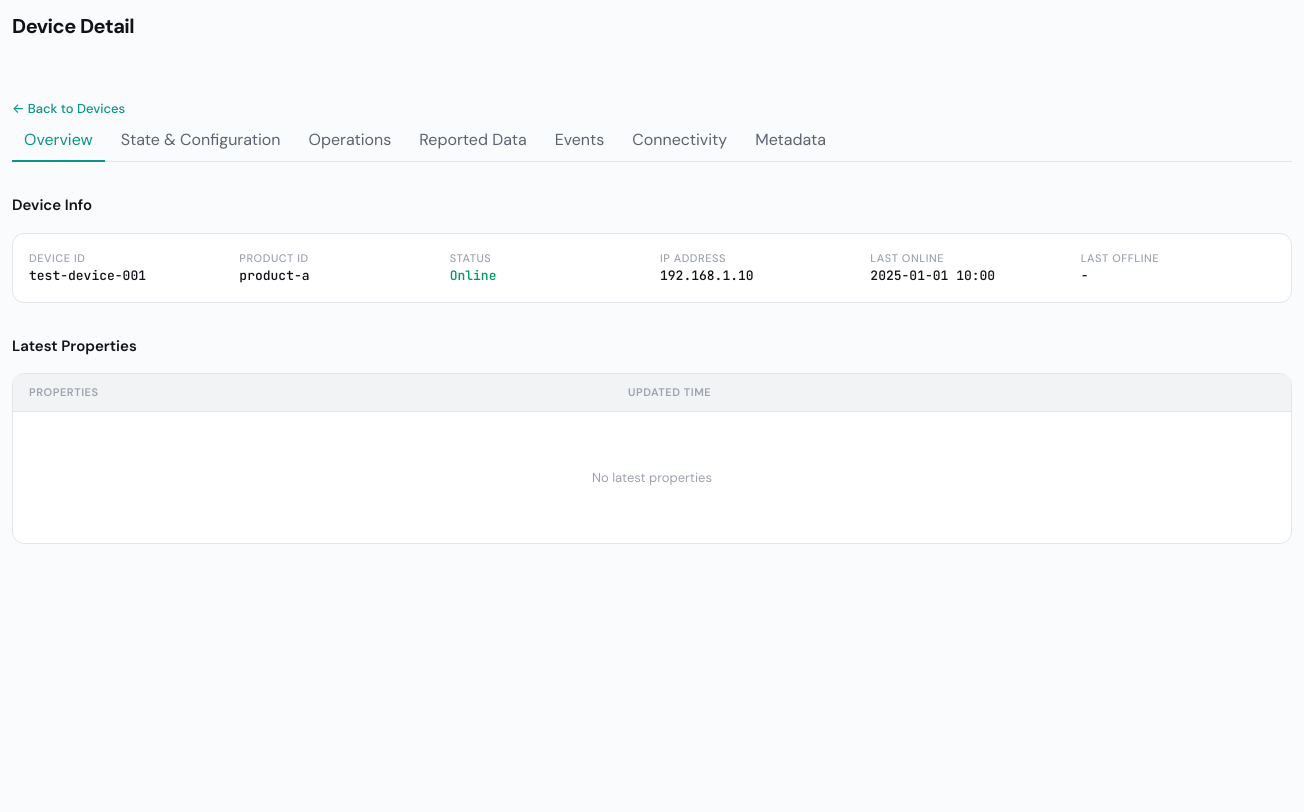
Test: State & Configuration section › shows "Target not set" when desired lacks the key
Click the tab "State & Configuration" at (201, 141), box [109,120,293,162]
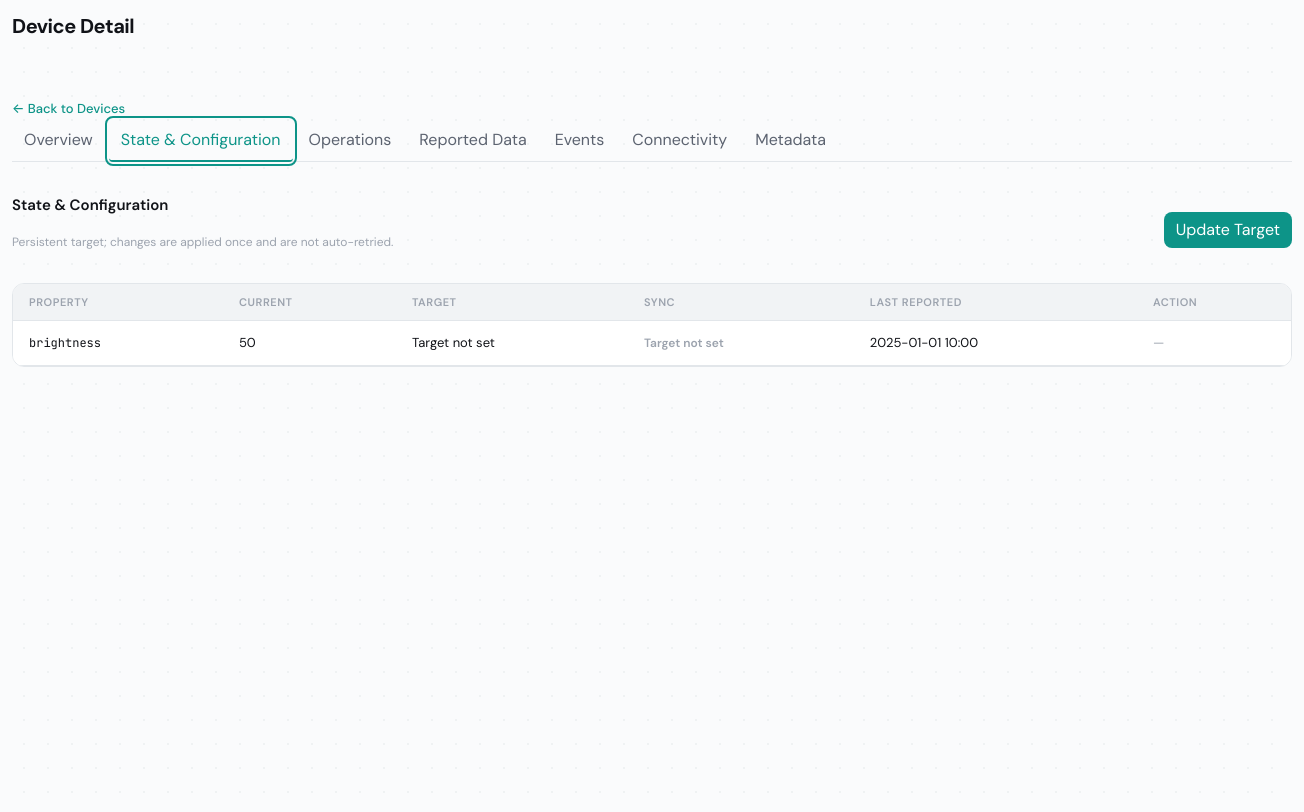
Result: the text "brightness" is shown at [29,335,101,351]
Result: the 1st text "Target not set" is shown at [396,320,628,365]
